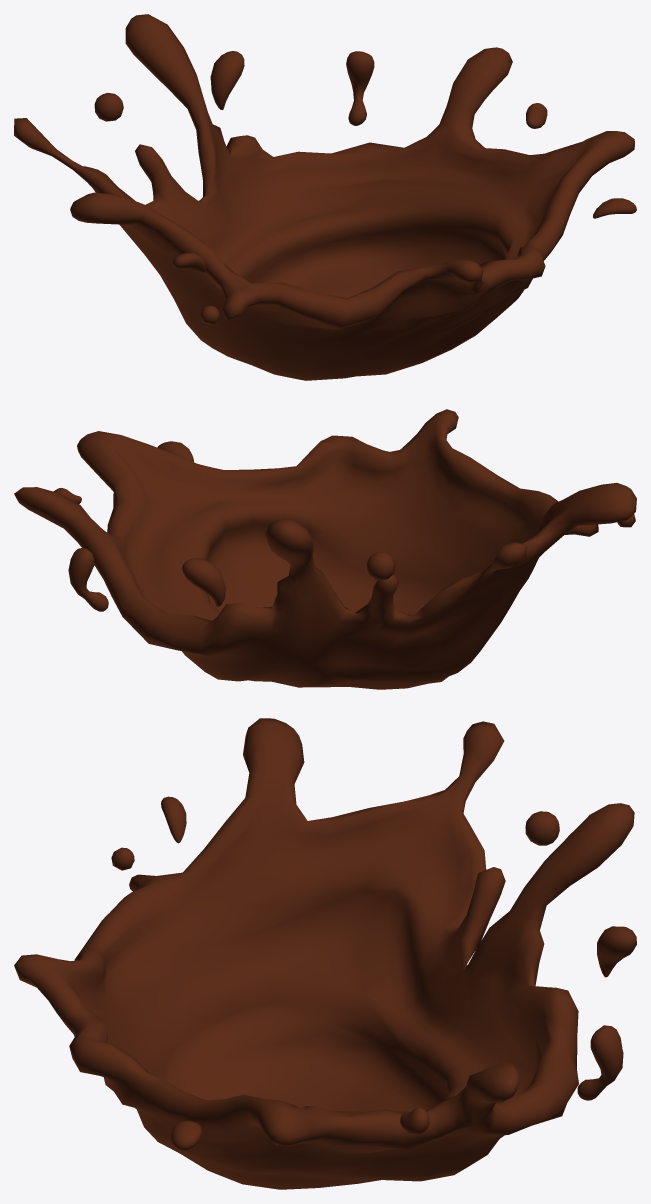
Rendered from Chocolate_Splash_Free_005.gltf.
3 views of the same model, one above another, from view 1: azimuth 30°, elevation 25°; view 2: azimuth 150°, elevation 25°; view 3: azimuth 270°, elevation 25° (orthographic). The views are drawn at different scales.
Parts seen in each view (by area): view 1: chocolate_splash_free_005_grp; view 2: chocolate_splash_free_005_grp; view 3: chocolate_splash_free_005_grp.
Boxes of the visible parts, left/top/right/bottom form: chocolate_splash_free_005_grp: left=14, top=14, right=636, bottom=380; chocolate_splash_free_005_grp: left=14, top=409, right=636, bottom=689; chocolate_splash_free_005_grp: left=14, top=718, right=636, bottom=1189.
Size of the model in its own units: 51.7 by 22.53 by 41.33.
Materials: 1 (1 with a texture image).
